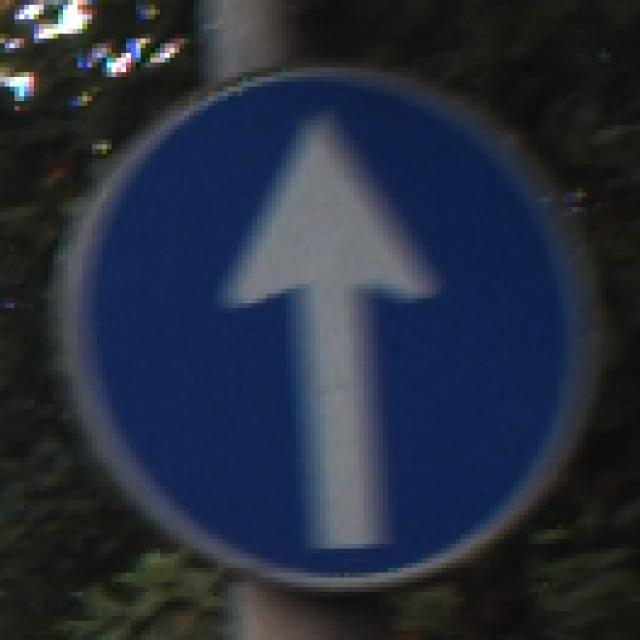compulsary ahead: (55, 72, 601, 584)
